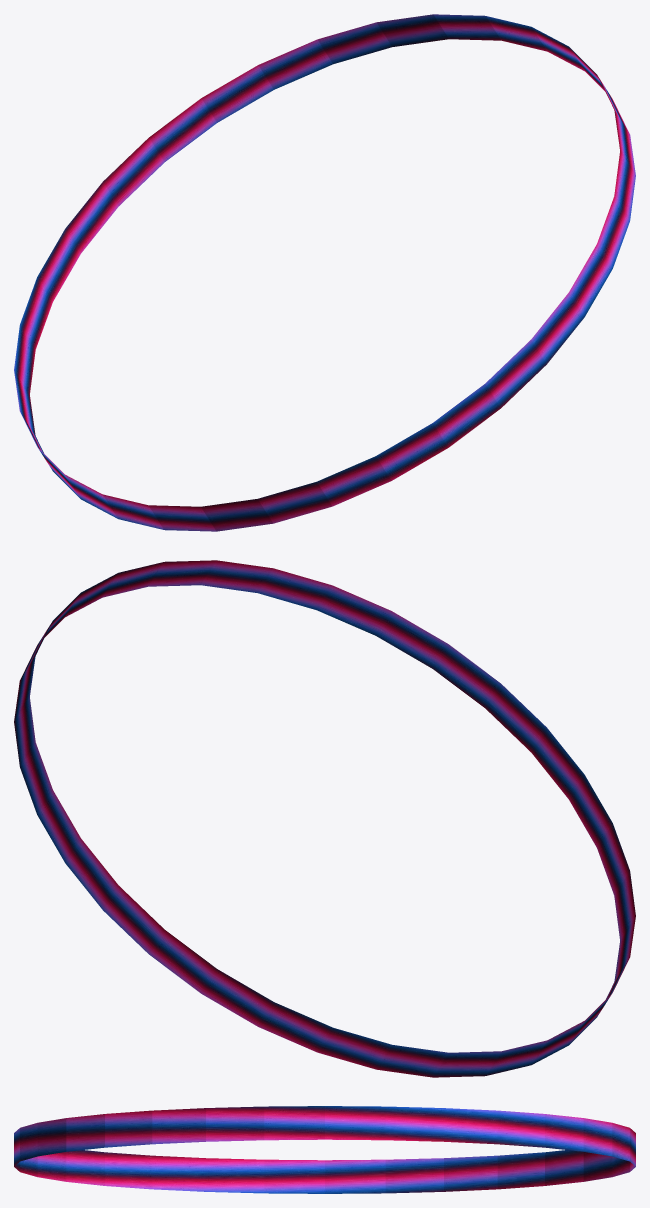
File: cylinder_30_degrees.glb
The picture shows the model from 3 angles, top to bottom: view 1: azimuth 30°, elevation 25°; view 2: azimuth 150°, elevation 25°; view 3: azimuth 270°, elevation 25°; orthographic projection. The views are drawn at different scales.
Parts seen in each view (by area): view 1: stationary Cylinder; view 2: stationary Cylinder; view 3: stationary Cylinder.
Part boxes in pixels (<box>): stationary Cylinder: <box>14,14,635,531</box>; stationary Cylinder: <box>14,560,635,1077</box>; stationary Cylinder: <box>14,1106,635,1193</box>.
Bounding box in the file's own units: 3.51 × 2.15 × 3.93.
1 material, 1 textured.
